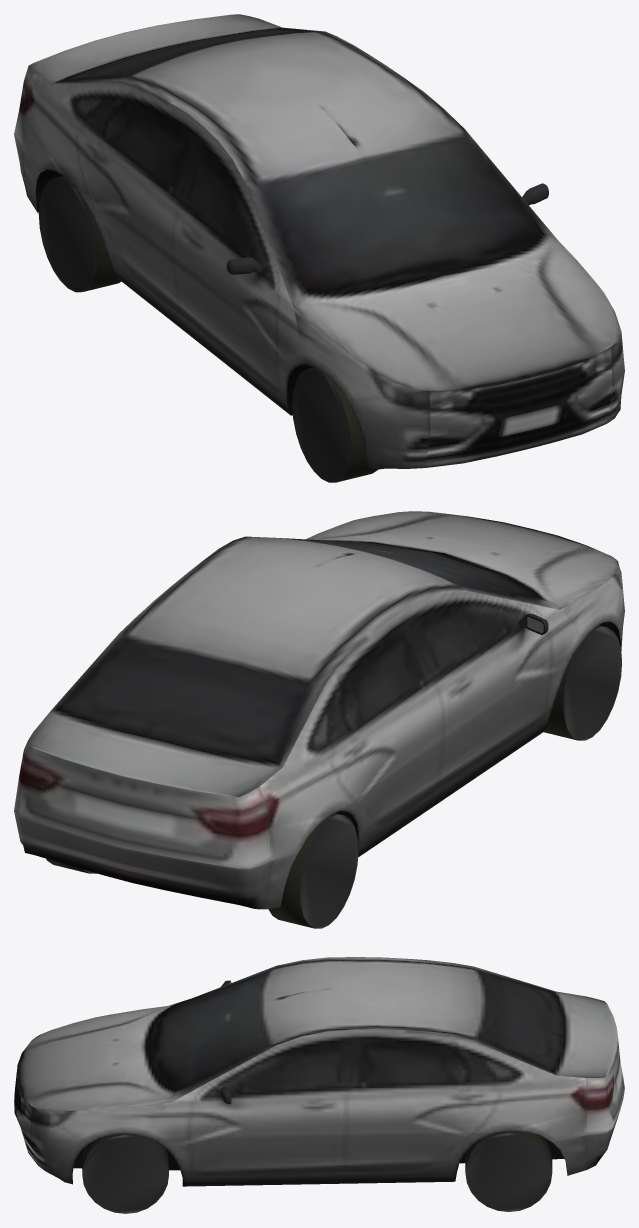
File: n_vesta.glb
3 renders of one model, top to bottom at view 1: azimuth 30°, elevation 25°; view 2: azimuth 150°, elevation 25°; view 3: azimuth 270°, elevation 25°, orthographic. The views are drawn at different scales.
Visible parts, largest first — view 1: Car_g2_0, wheel_fr, wheel_rr; view 2: Car_g2_0, wheel_rr, wheel_fr; view 3: Car_g2_0, wheel_rl, wheel_fl.
Part boxes in pixels (left/top/right/bottom): Car_g2_0: left=14, top=14, right=624, bottom=469; wheel_fr: left=292, top=367, right=378, bottom=482; wheel_rr: left=38, top=176, right=121, bottom=292; Car_g2_0: left=14, top=511, right=624, bottom=909; wheel_rr: left=268, top=813, right=358, bottom=928; wheel_fr: left=543, top=625, right=621, bottom=740; Car_g2_0: left=14, top=957, right=624, bottom=1186; wheel_rl: left=465, top=1130, right=552, bottom=1211; wheel_fl: left=82, top=1133, right=168, bottom=1213.
Bounding box in the file's own units: 2.06 × 1.48 × 4.59.
Materials: 2 (1 with a texture image).
